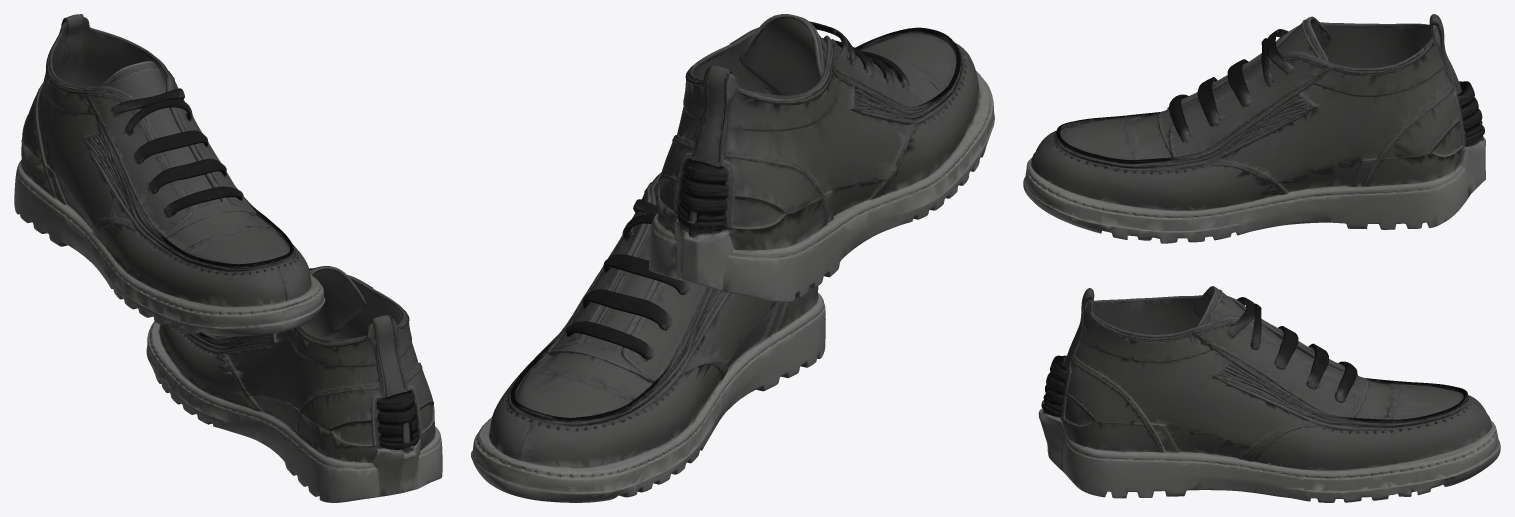
File: zapato.glb
3 views of the same model, side by side, from view 1: azimuth 30°, elevation 25°; view 2: azimuth 150°, elevation 25°; view 3: azimuth 270°, elevation 25° (orthographic). The views are drawn at different scales.
Parts seen in each view (by area): view 1: aiprintgen_node_bcbb7b89-1b4f-4518-a34a-359c08180b5e; view 2: aiprintgen_node_bcbb7b89-1b4f-4518-a34a-359c08180b5e; view 3: aiprintgen_node_bcbb7b89-1b4f-4518-a34a-359c08180b5e.
Boxes of the visible parts, <box> form: aiprintgen_node_bcbb7b89-1b4f-4518-a34a-359c08180b5e: <box>14,14,442,502</box>; aiprintgen_node_bcbb7b89-1b4f-4518-a34a-359c08180b5e: <box>471,14,994,502</box>; aiprintgen_node_bcbb7b89-1b4f-4518-a34a-359c08180b5e: <box>1023,14,1500,502</box>.
Size of the model in its own units: 0.6606 by 0.8732 by 0.9788.
Materials: 1 (1 with a texture image).
